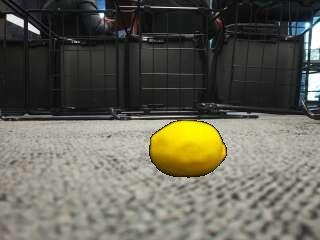lemon: (151, 122, 226, 177)
